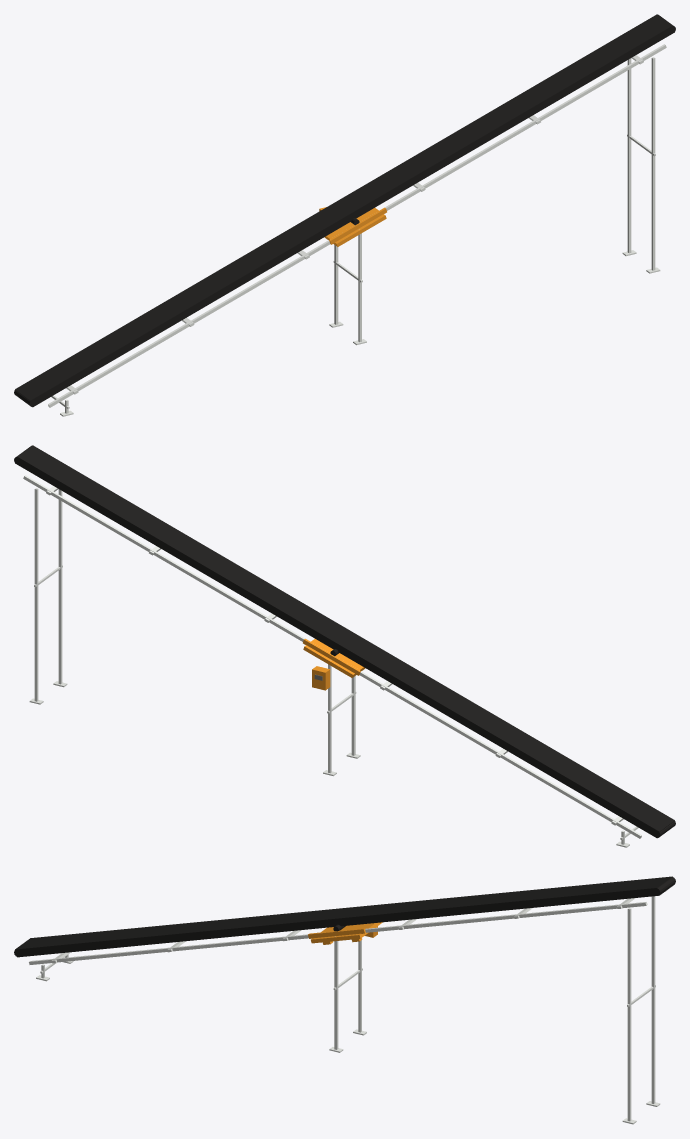
The model's file is cinta-balanza.glb.
The picture shows the model from 3 angles, top to bottom: view 1: azimuth 30°, elevation 25°; view 2: azimuth 150°, elevation 25°; view 3: azimuth 330°, elevation 25°; orthographic projection.
Visible parts, largest first — view 1: black_rubber_belt, white_side_rail_left, white_support_leg_03_left, white_support_leg_03_right, orange_weighing_train_frame; view 2: black_rubber_belt, white_side_rail_right, white_support_leg_03_right, white_support_leg_03_left, orange_weighing_train_frame; view 3: black_rubber_belt, white_side_rail_left, white_support_leg_03_left, white_support_leg_03_right, orange_weighing_train_frame, white_support_leg_02_left.
Part boxes in pixels (box(x1,y1,x2,y2)): black_rubber_belt: box(15, 14, 674, 407); white_side_rail_left: box(48, 44, 666, 407); white_support_leg_03_left: box(651, 57, 655, 270); white_support_leg_03_right: box(627, 58, 631, 253); orange_weighing_train_frame: box(324, 208, 386, 246); black_rubber_belt: box(15, 445, 674, 838); white_side_rail_right: box(23, 475, 641, 838); white_support_leg_03_right: box(34, 488, 38, 701); white_support_leg_03_left: box(58, 489, 62, 684); orange_weighing_train_frame: box(303, 639, 365, 677); black_rubber_belt: box(15, 876, 674, 957); white_side_rail_left: box(29, 902, 647, 964); white_support_leg_03_left: box(627, 908, 631, 1121); white_support_leg_03_right: box(651, 896, 655, 1103); orange_weighing_train_frame: box(311, 922, 382, 943); white_support_leg_02_left: box(334, 936, 338, 1049).
Bounding box in the file's own units: 22.01 × 7.71 × 2.16.
